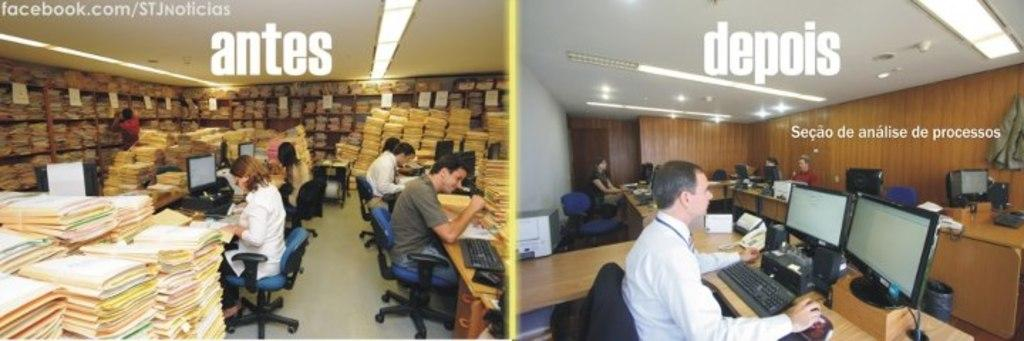Computer-monitor: (850, 182, 967, 314), (785, 180, 853, 254), (946, 168, 991, 205), (188, 153, 215, 192)
